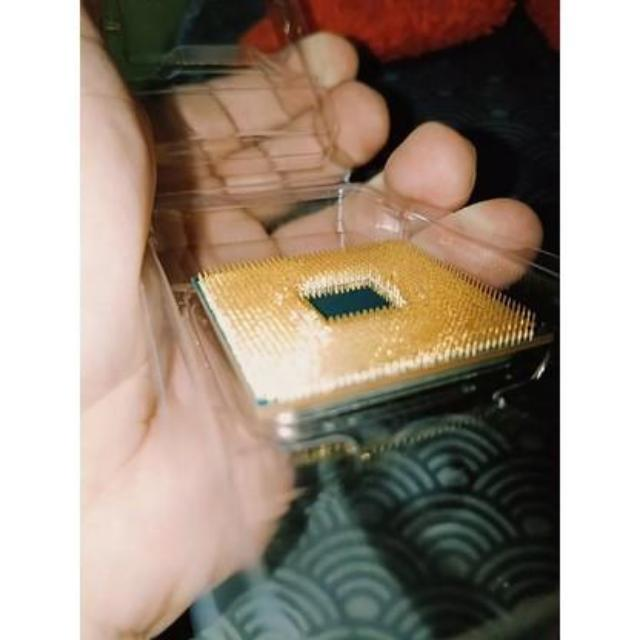CPU: (192, 238, 552, 434)
